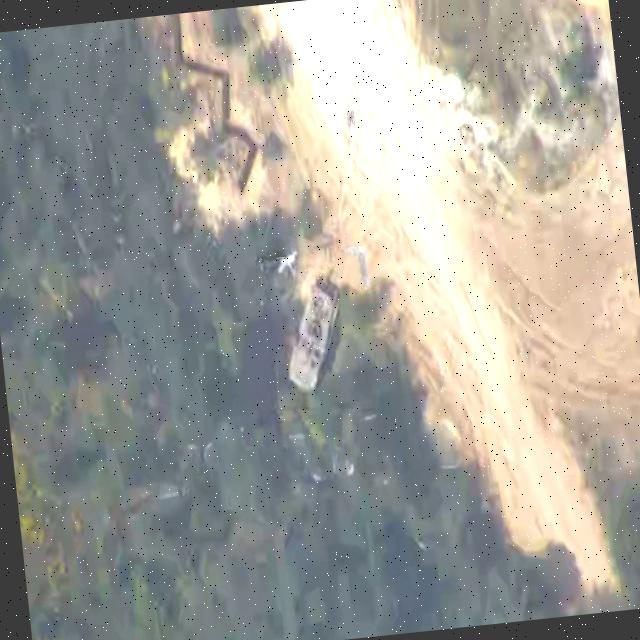AIFV: (277, 273, 352, 397)
